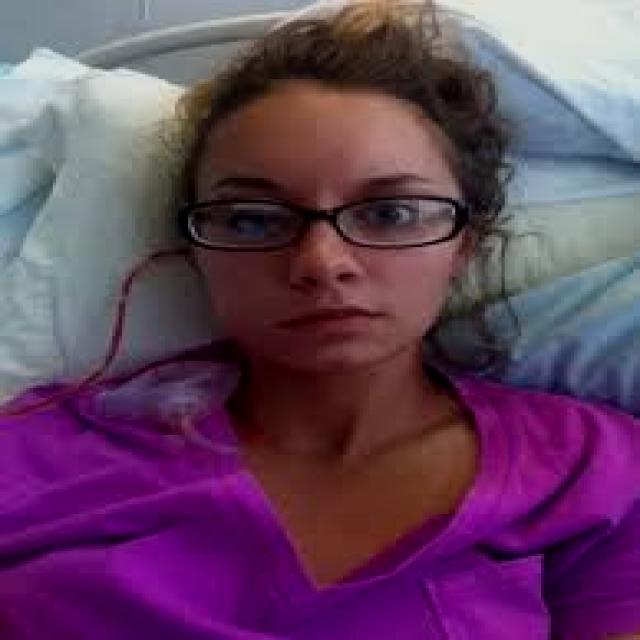stroke_face: (152, 64, 487, 441)
